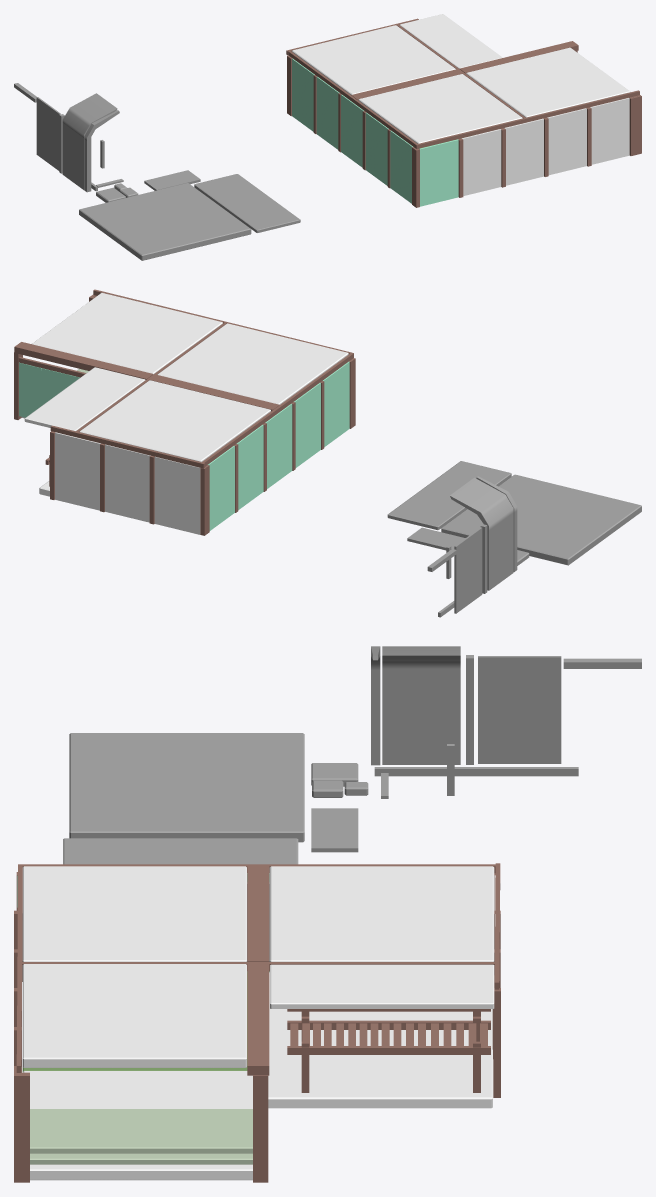
File: Modular_2nd_test_export.fbx
3 views of the same model, one above another, from view 1: azimuth 30°, elevation 25°; view 2: azimuth 150°, elevation 25°; view 3: azimuth 270°, elevation 25° (orthographic). The views are drawn at different scales.
Parts seen in each view (by area): view 1: pCube6, pCube130, pCube134, pCube131, pCube7, pCube132, pCube5, pCube89, pCube92, pCube104, pCube106, pCube94 (+13 smaller); view 2: pCube131, pCube130, pCube134, pCube6, pCube132, pCube5, pCube7, pCube97, pCube100, pCube98, pCube9, pCube44 (+15 smaller); view 3: pCube6, pCube134, pCube131, pCube130, pCube26, pCube25, pCube132, pCube103, pCube5, pCube9, pCube7, pCube88 (+20 smaller).
Part boxes in pixels (x1,y1,x2,y2): pCube6: (79, 183, 251, 260); pCube130: (358, 74, 522, 143); pCube134: (466, 47, 630, 117); pCube131: (292, 25, 455, 94); pCube7: (194, 174, 300, 232); pCube132: (400, 14, 502, 68); pCube5: (62, 93, 117, 189); pCube89: (419, 139, 458, 206); pCube92: (462, 129, 501, 195); pCube104: (547, 108, 586, 175); pCube106: (590, 98, 629, 164); pCube94: (504, 118, 543, 185); pCube131: (79, 380, 270, 462); pCube130: (157, 323, 348, 404); pCube134: (31, 293, 222, 374); pCube6: (441, 474, 641, 565); pCube132: (24, 367, 145, 431); pCube5: (450, 477, 513, 590); pCube7: (387, 461, 511, 530); pCube97: (154, 456, 200, 534); pCube100: (55, 432, 100, 510); pCube98: (105, 444, 150, 522); pCube9: (454, 527, 482, 613); pCube44: (265, 403, 292, 488); pCube6: (69, 733, 304, 842); pCube134: (22, 964, 246, 1067); pCube131: (269, 866, 494, 961); pCube130: (22, 866, 246, 961); pCube26: (268, 972, 492, 1108); pCube25: (22, 1071, 252, 1180); pCube132: (270, 964, 494, 1008); pCube103: (30, 1109, 252, 1153); pCube5: (382, 646, 460, 764); pCube9: (478, 656, 561, 763); pCube7: (63, 838, 298, 864); pCube88: (30, 1153, 252, 1164).
Bounding box in the file's own units: 66.36 × 10 × 40.04.
